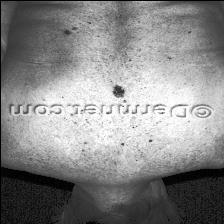Potentially Malignant Skin Tumors: (104, 82, 132, 96)
